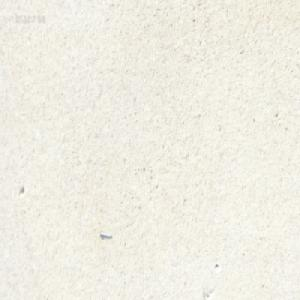Nail: (97, 229, 112, 238)
